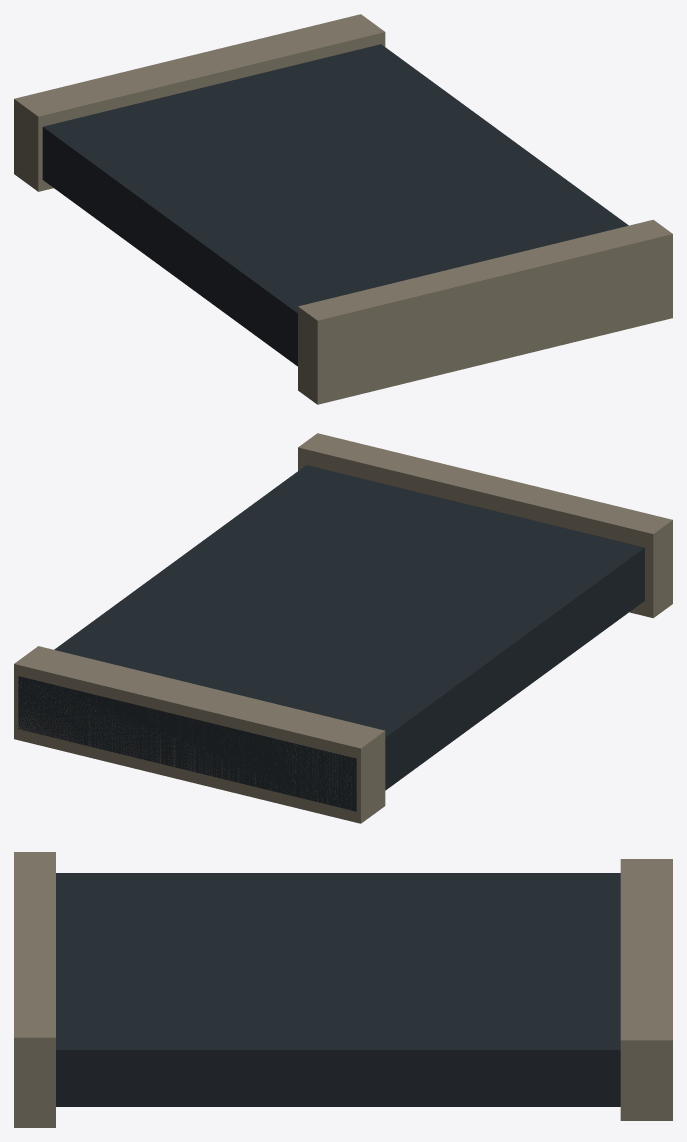
The model's file is SM_AEON_Wall_4m.obj.
The picture shows the model from 3 angles, top to bottom: view 1: azimuth 30°, elevation 25°; view 2: azimuth 150°, elevation 25°; view 3: azimuth 270°, elevation 25°; orthographic projection. The views are drawn at different scales.
Parts seen in each view (by area): view 1: SM_AEON_Wall_4m; view 2: SM_AEON_Wall_4m; view 3: SM_AEON_Wall_4m.
Part boxes in pixels (<box>): SM_AEON_Wall_4m: <box>14,14,672,404</box>; SM_AEON_Wall_4m: <box>14,433,672,823</box>; SM_AEON_Wall_4m: <box>14,852,672,1127</box>.
Bounding box in the file's own units: 420 × 95 × 630.
